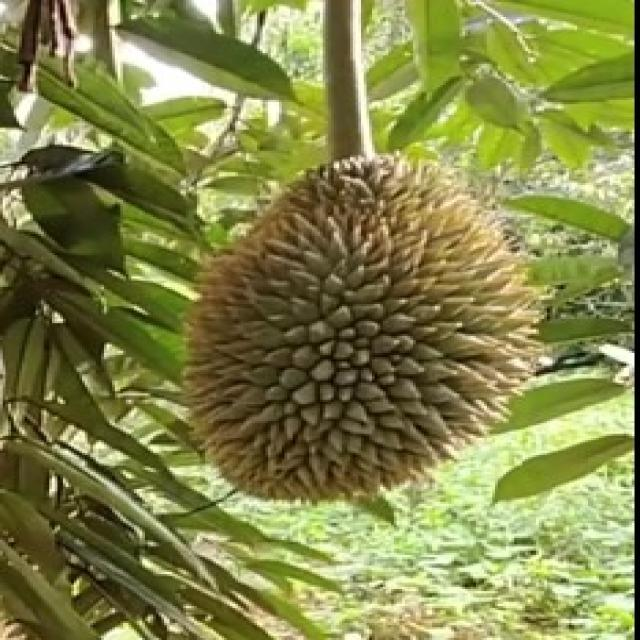mature: (185, 153, 553, 516)
